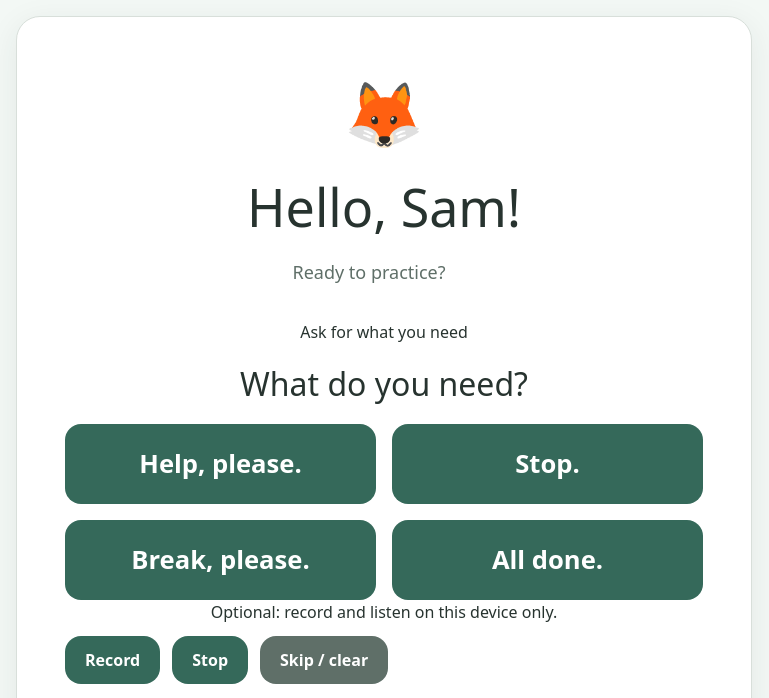
Test: child independent practice › honors Help, please. immediately without penalties
Click the button "Help, please." at [220, 464], box [65,424,376,504]
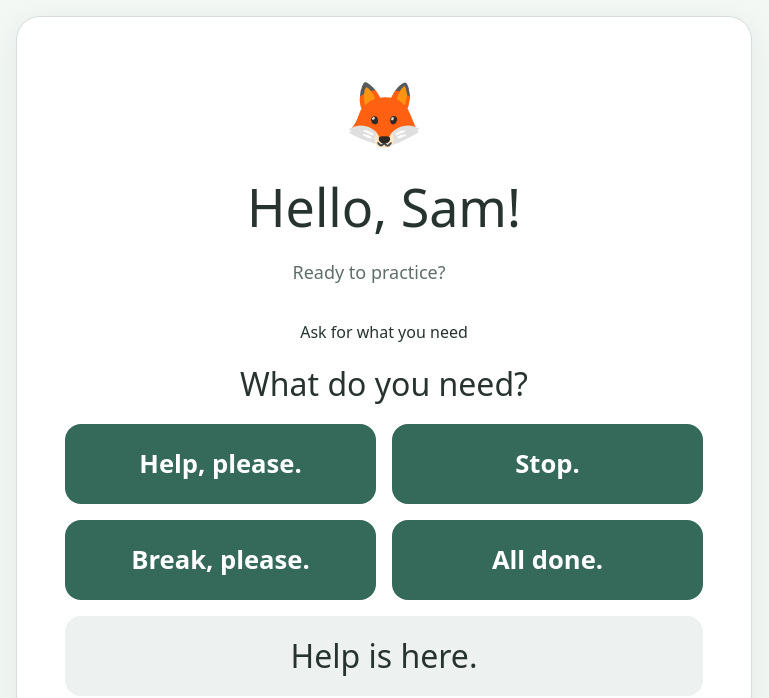
Expected: the message reads "Help is here.", [290,634,478,677]
